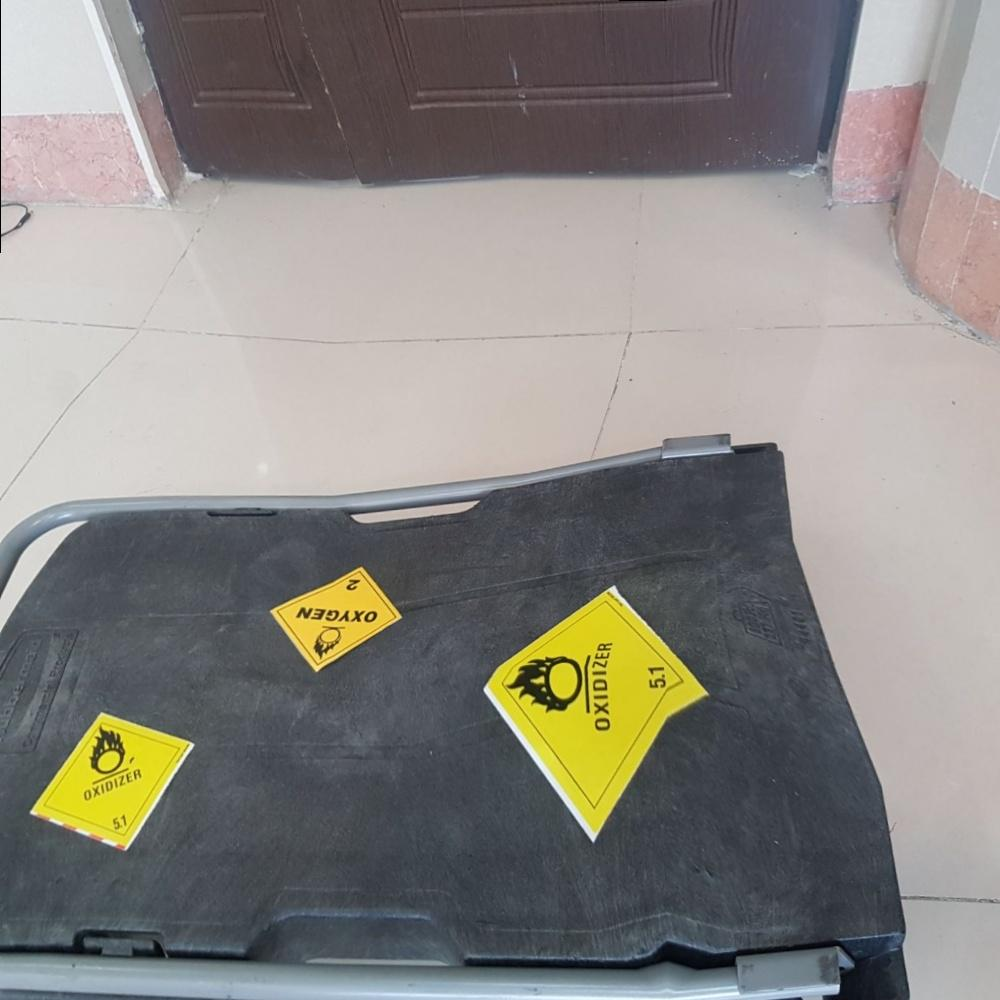oxidizer: (491, 577, 714, 861), (27, 712, 193, 854), (270, 562, 410, 677)
